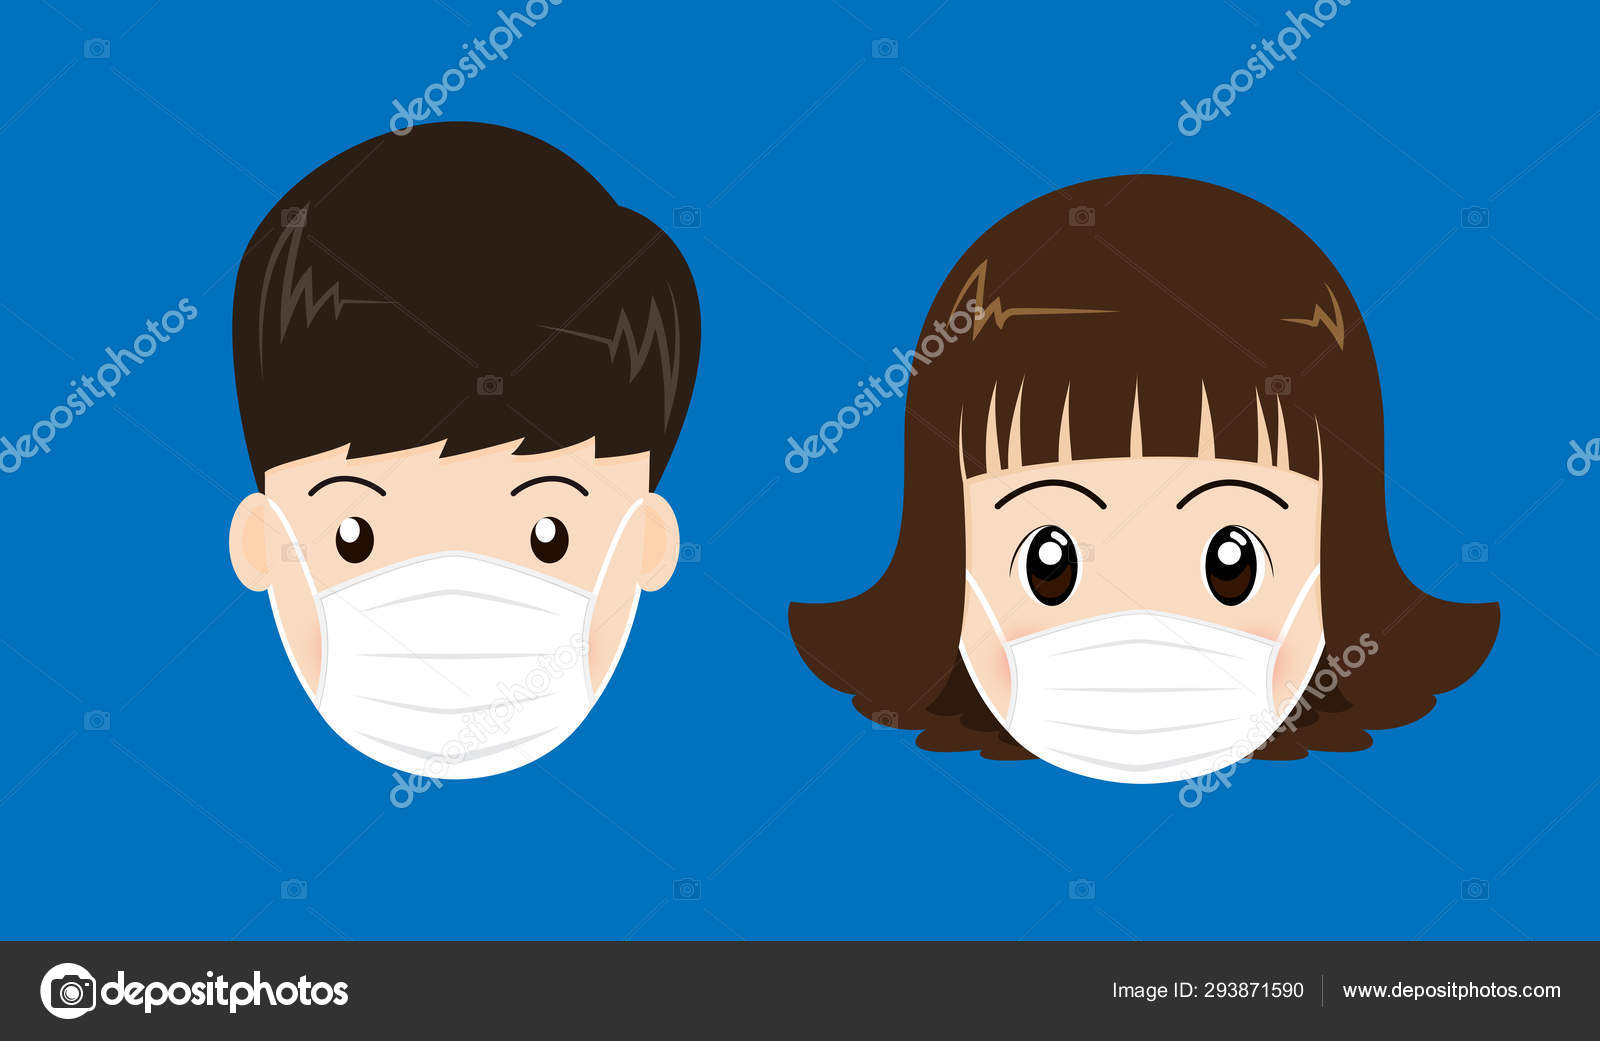mask: (277, 561, 620, 796), (980, 596, 1307, 811)
